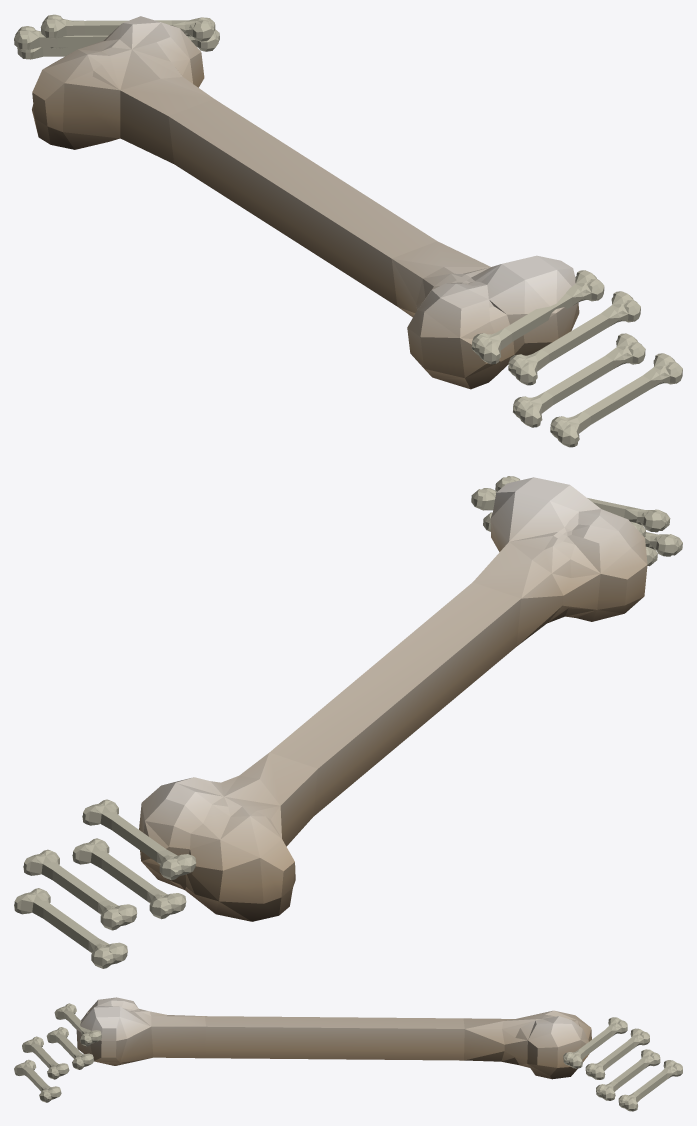
Rendered from boneBridgeB.gltf.
3 views of the same model, one above another, from view 1: azimuth 30°, elevation 25°; view 2: azimuth 150°, elevation 25°; view 3: azimuth 270°, elevation 25° (orthographic). The views are drawn at different scales.
Visible parts, largest first — view 1: boneBridgeA, boneStepsA, boneStepsB; view 2: boneBridgeA, boneStepsB, boneStepsA; view 3: boneBridgeA, boneStepsB, boneStepsA.
Part boxes in pixels (box(x1,y1,x2,y2)): boneBridgeA: box(32, 16, 579, 389); boneStepsA: box(471, 270, 682, 447); boneStepsB: box(14, 14, 219, 59); boneBridgeA: box(139, 477, 647, 921); boneStepsB: box(14, 799, 196, 968); boneStepsA: box(471, 476, 682, 566); boneBridgeA: box(76, 997, 591, 1079); boneStepsB: box(563, 1017, 682, 1111); boneStepsA: box(14, 1003, 101, 1102).
Size of what is drawn, in the model's own units: 8.83 by 4.66 by 37.2.
Materials: 2 (2 with a texture image).
